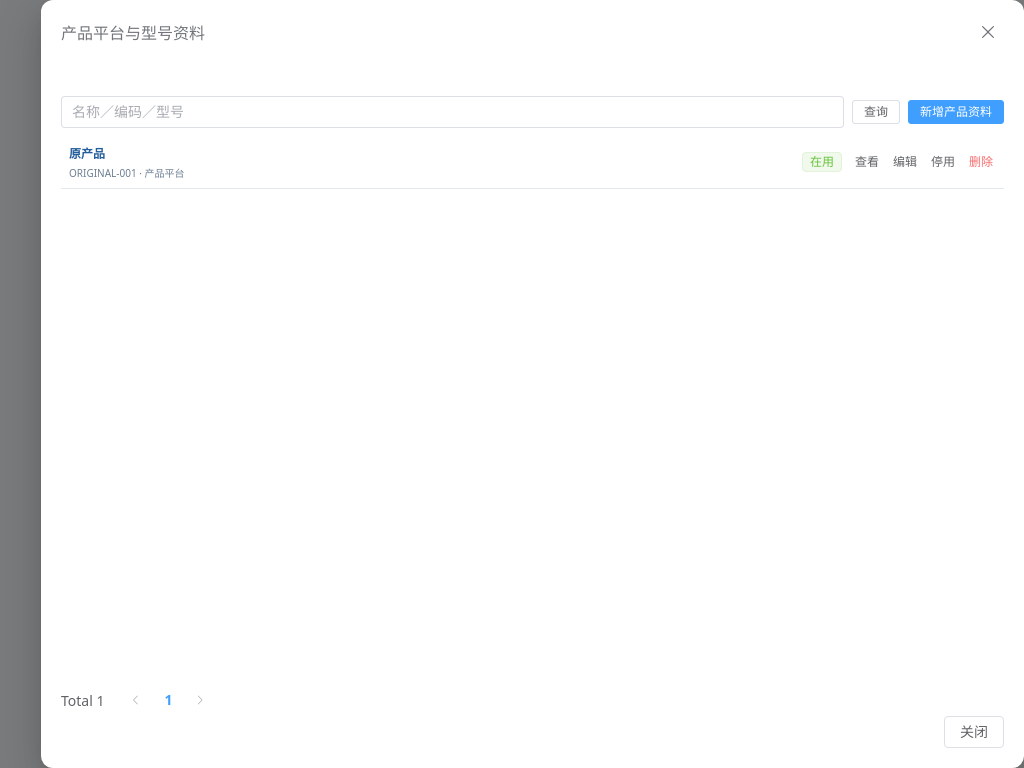
Test case: existing product master maintenance › uses the shared reference-aware dialog for list deletion
Click the button "删除". click: coordinates (981, 162)
box: [966,153,996,171]
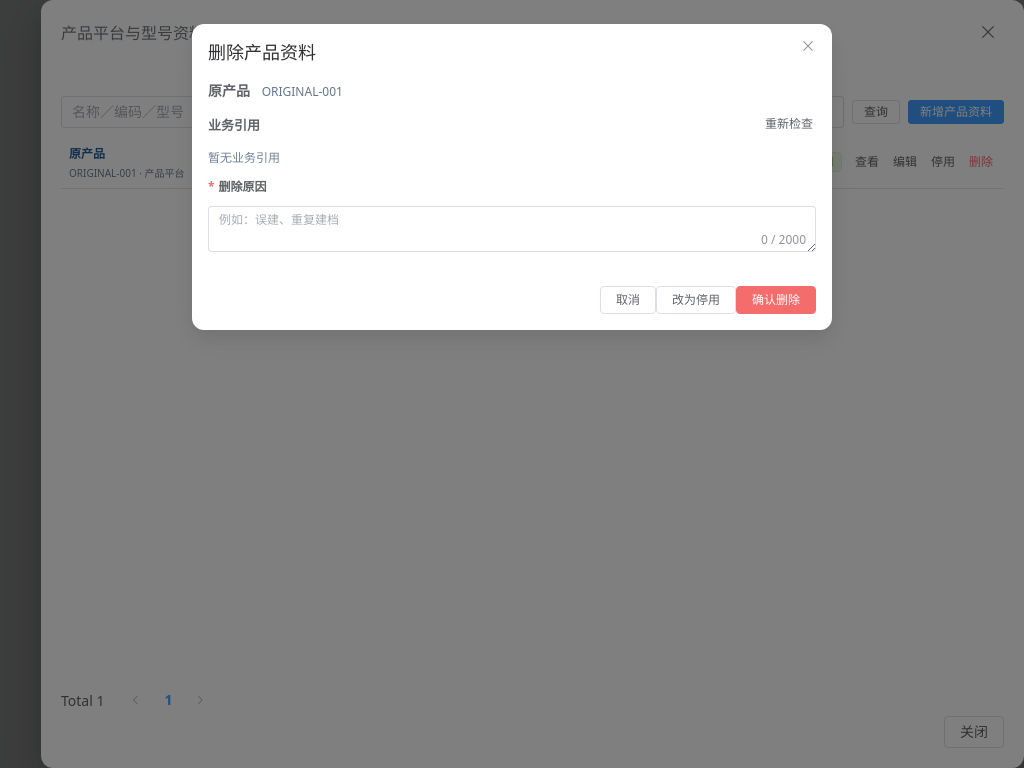
expect the text "暂无业务引用" is shown: met, box [208,149,280,166]
